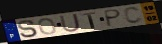C: (123, 6, 145, 24)
O: (37, 17, 58, 35)
P: (104, 8, 123, 28)
S: (16, 19, 39, 38)
T: (82, 11, 97, 29)
U: (58, 12, 82, 33)
